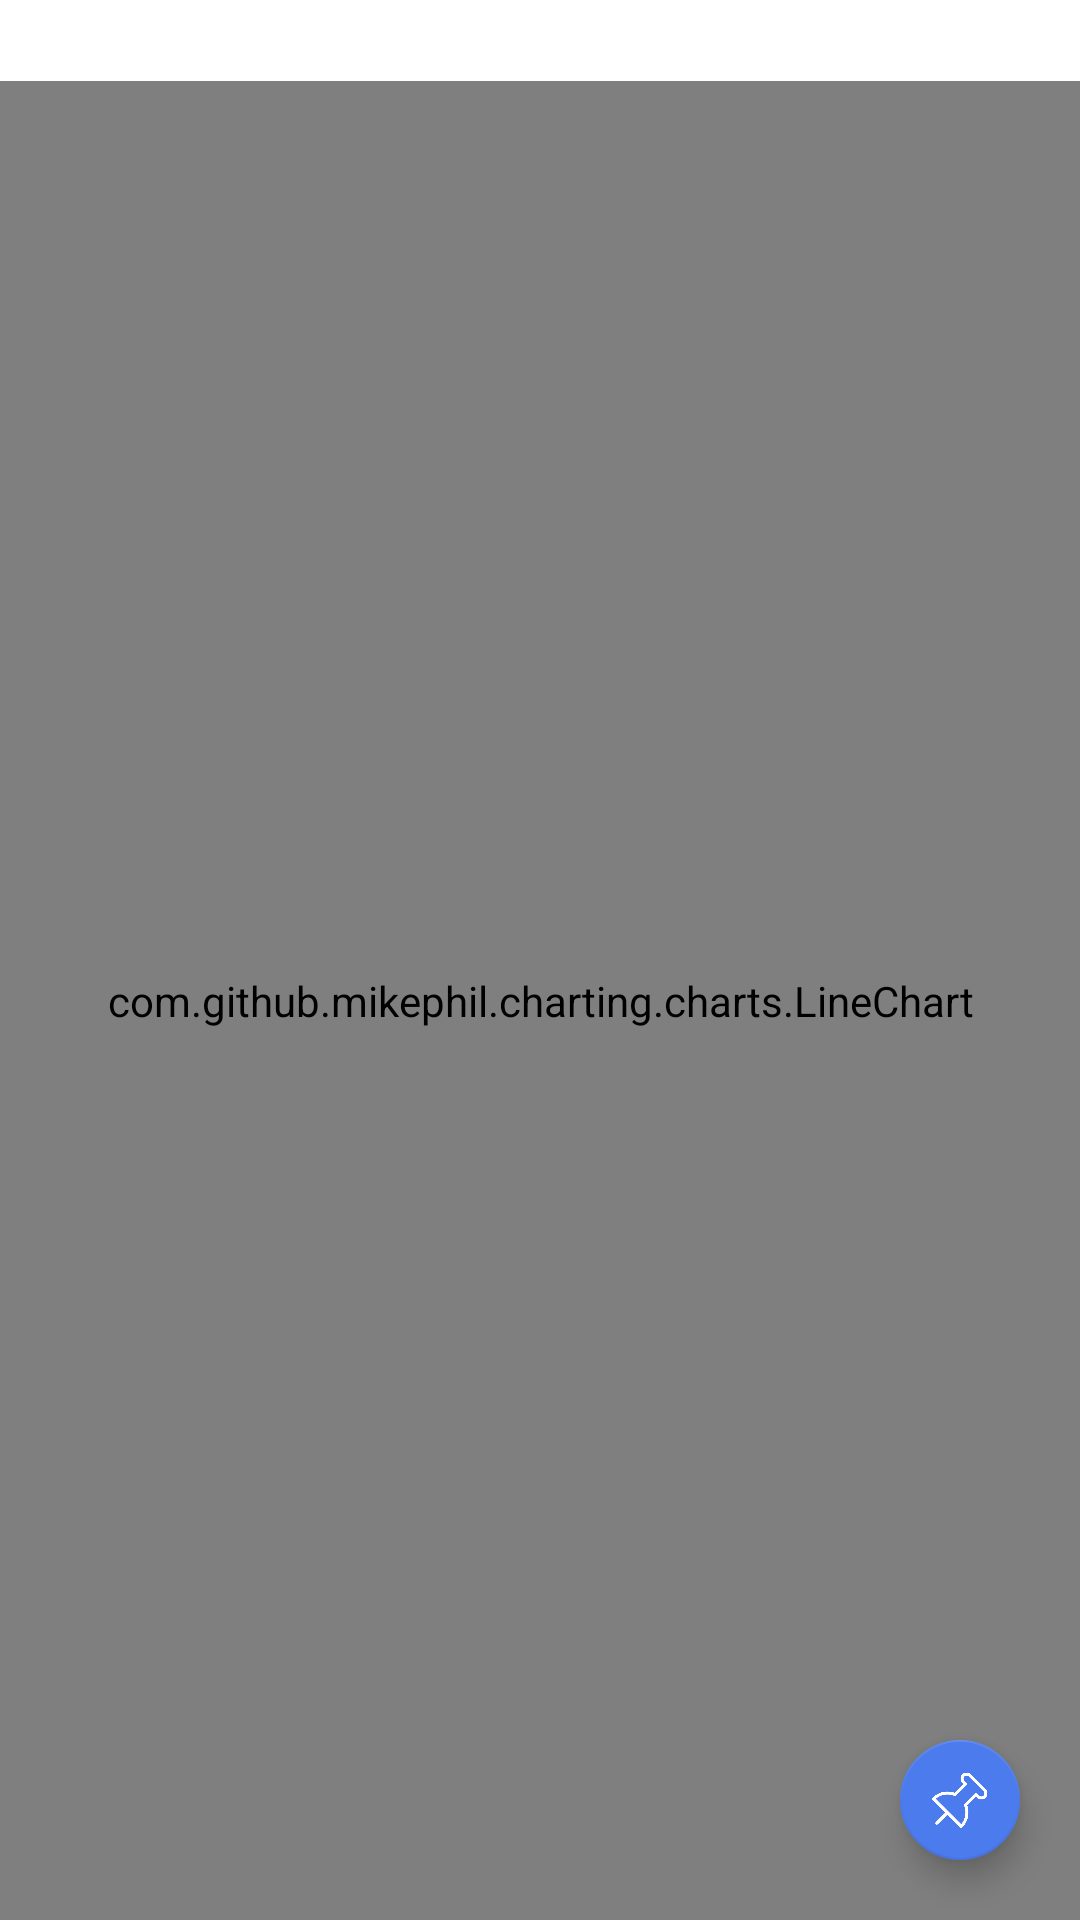

Icons on this 1080×1920 Android screen, each with its box as (x1, y1, x2, y2):
pin open: (900, 1740, 1020, 1860)
